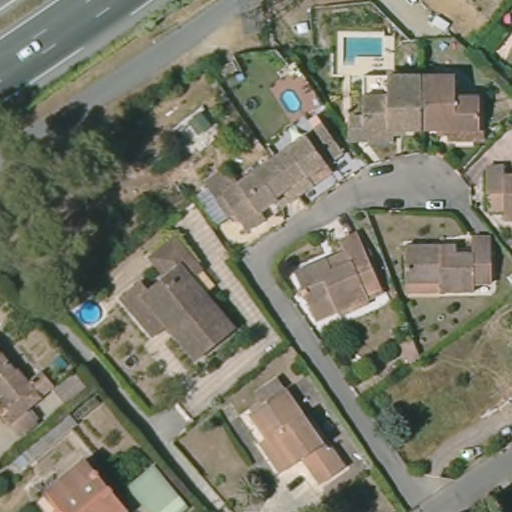pool: (336, 35, 388, 69), (277, 82, 304, 119), (74, 298, 104, 326)
